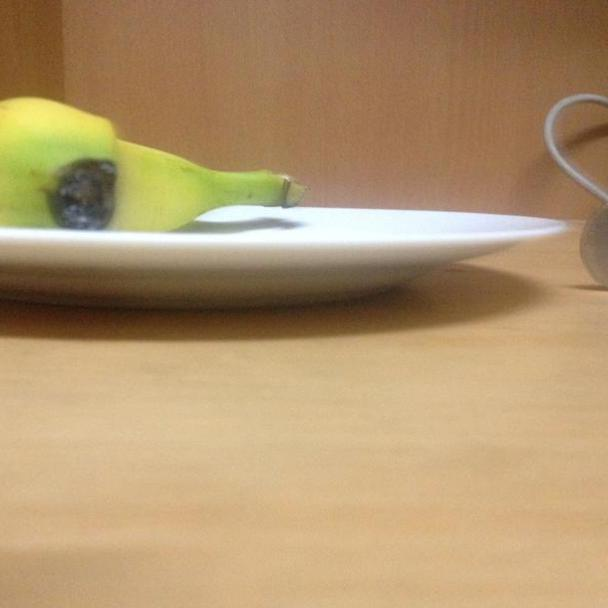banana: (1, 77, 306, 232)
